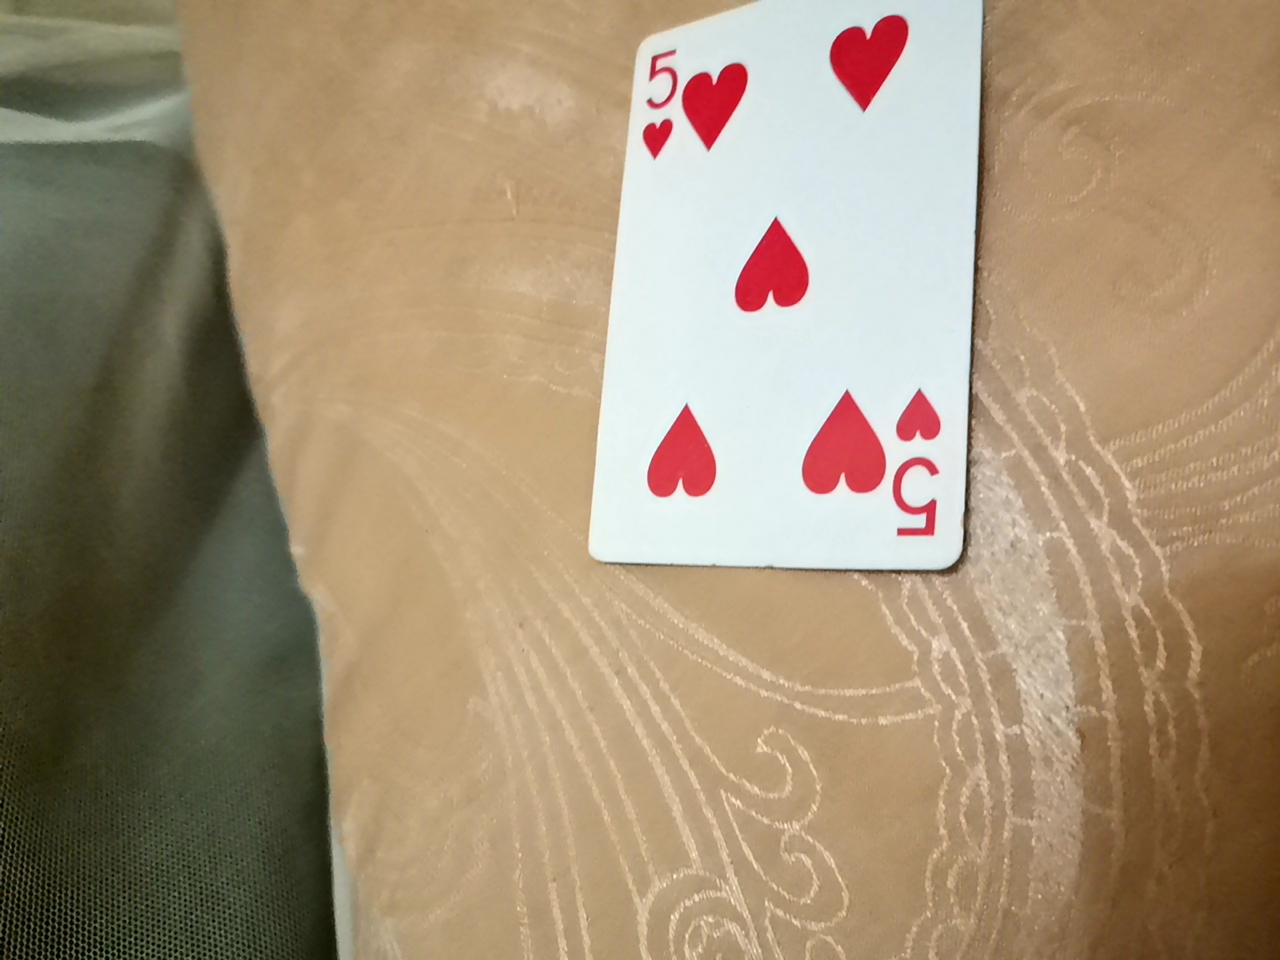hx 5: (599, 1, 1008, 530)
